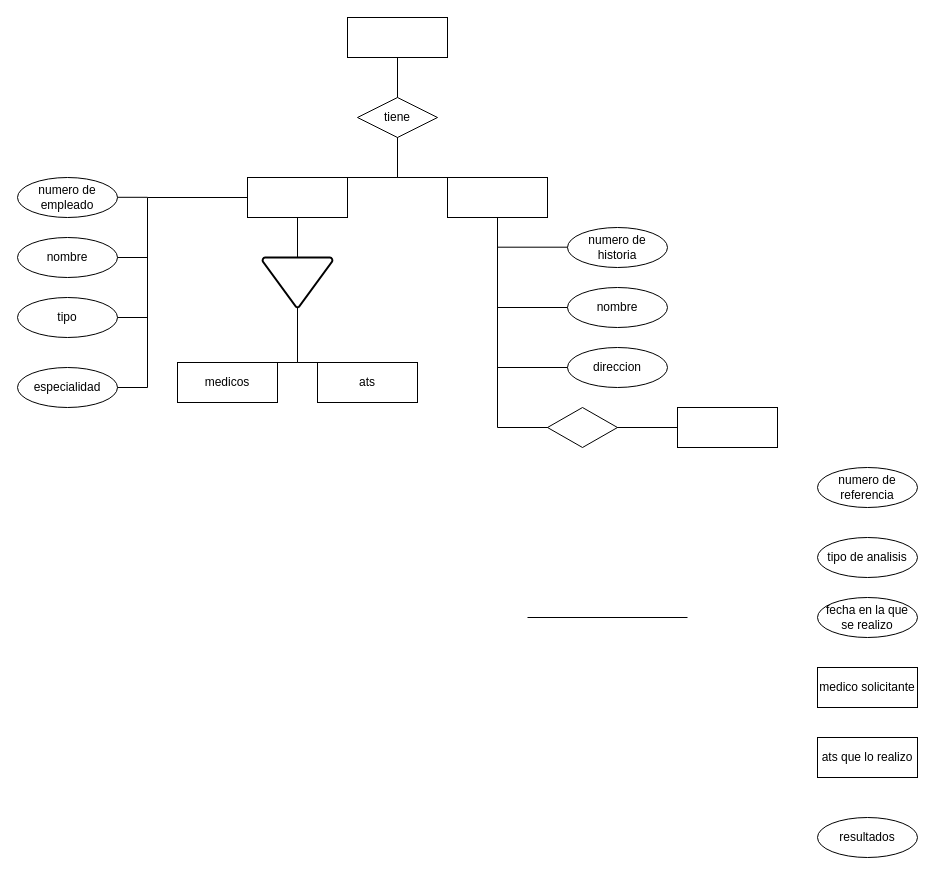
Image size: 935x875. Some labels were removed from this diagram. Each missing label, with the centre of its shape:
analisis realizados: the point at 727,427
empleados: the point at 297,197
hospital: the point at 397,37
isa: the point at 297,282
pacientes: the point at 497,197
tienen: the point at 582,427
